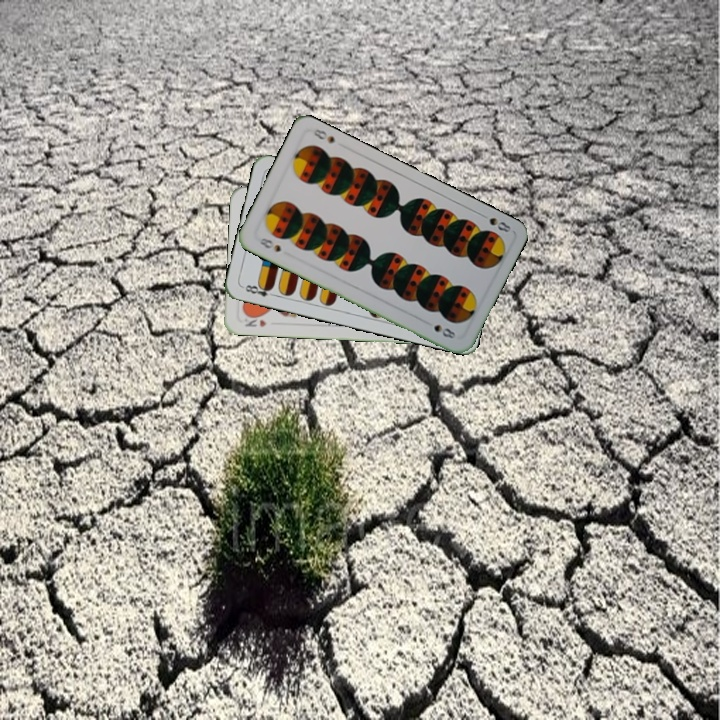E8: (239, 280, 279, 299)
HK: (241, 311, 269, 329)
S8: (476, 209, 513, 235), (254, 234, 283, 255)
